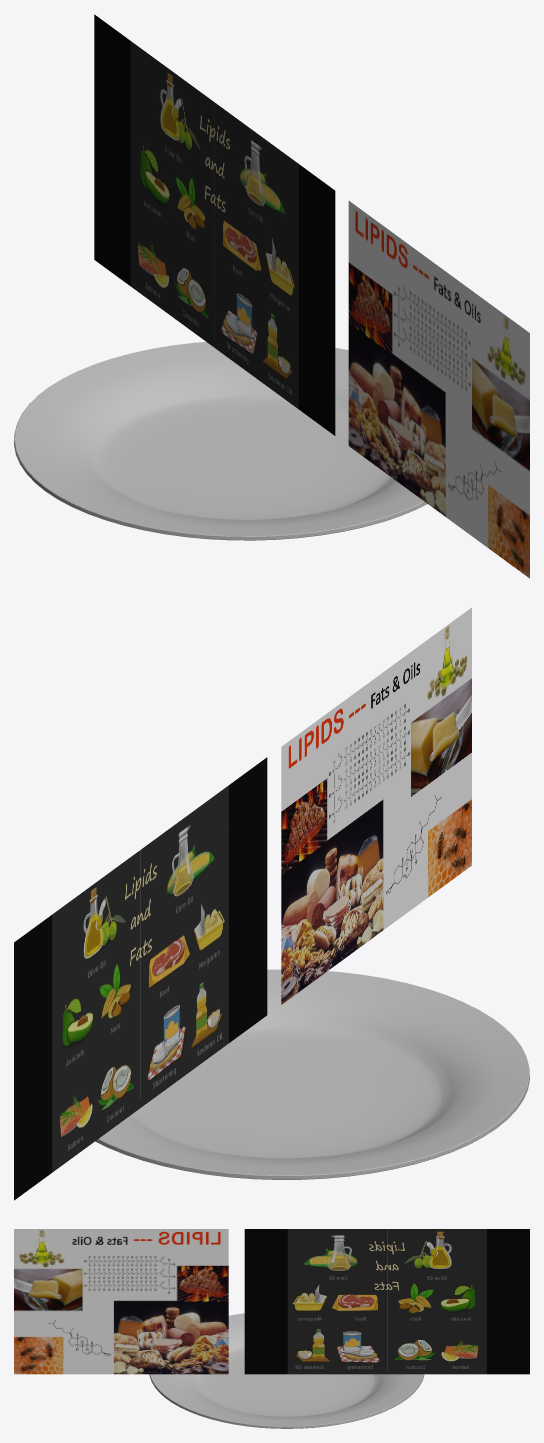
File: lipid.glb
The picture shows the model from 3 angles, top to bottom: view 1: azimuth 30°, elevation 25°; view 2: azimuth 150°, elevation 25°; view 3: azimuth 270°, elevation 25°; orthographic projection. The views are drawn at different scales.
Parts seen in each view (by area): view 1: lipid_content_2, plate, lipid_content_1; view 2: lipid_content_2, plate, lipid_content_1; view 3: lipid_content_2, lipid_content_1, plate.
Boxes of the visible parts, x1,y1,x2,y2 form: lipid_content_2: (94, 14, 335, 435); plate: (14, 342, 427, 540); lipid_content_1: (348, 201, 529, 578); lipid_content_2: (14, 757, 267, 1200); plate: (95, 969, 529, 1179); lipid_content_1: (281, 607, 471, 1004); lipid_content_2: (244, 1229, 529, 1374); lipid_content_1: (14, 1229, 228, 1374); plate: (149, 1313, 424, 1428).
Size of the model in its own units: 3.45 by 2.36 by 6.45.
3 materials, 2 textured.
